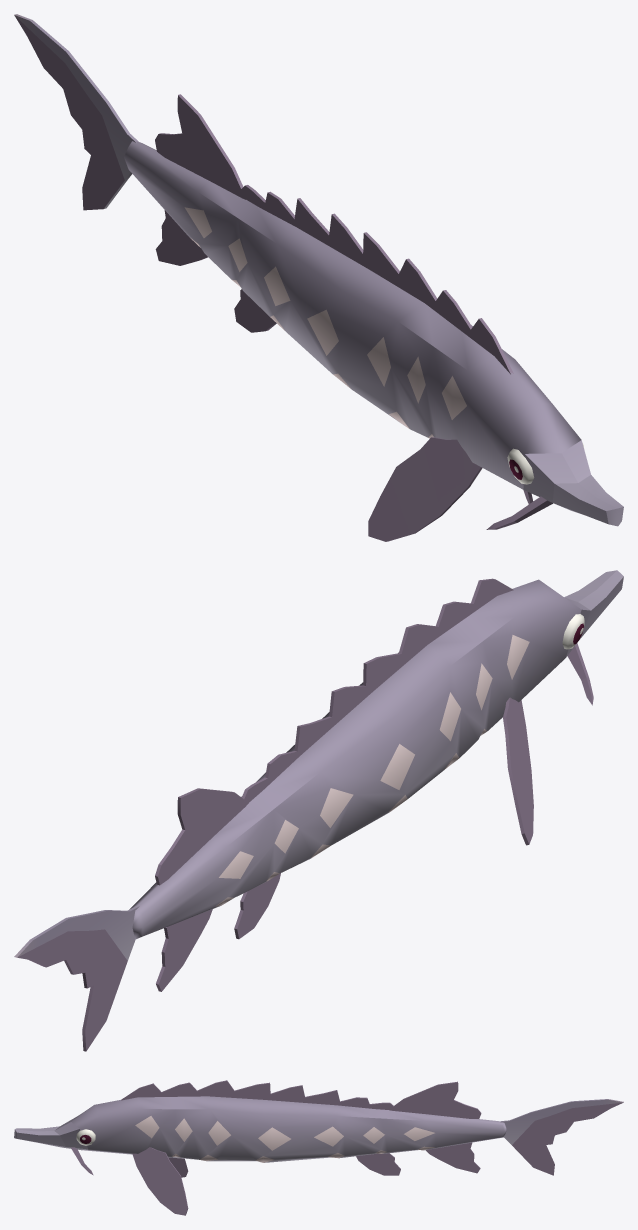
The picture shows the model from 3 angles, top to bottom: view 1: azimuth 30°, elevation 25°; view 2: azimuth 150°, elevation 25°; view 3: azimuth 270°, elevation 25°; orthographic projection. The views are drawn at different scales.
Parts seen in each view (by area): view 1: Fish_Sturgeon; view 2: Fish_Sturgeon; view 3: Fish_Sturgeon.
Part boxes in pixels (x1,y1,x2,y2): Fish_Sturgeon: (14,14,623,541); Fish_Sturgeon: (14,570,623,1051); Fish_Sturgeon: (14,1080,623,1215).
Size of the model in its own units: 27.48 by 37.26 by 178.
